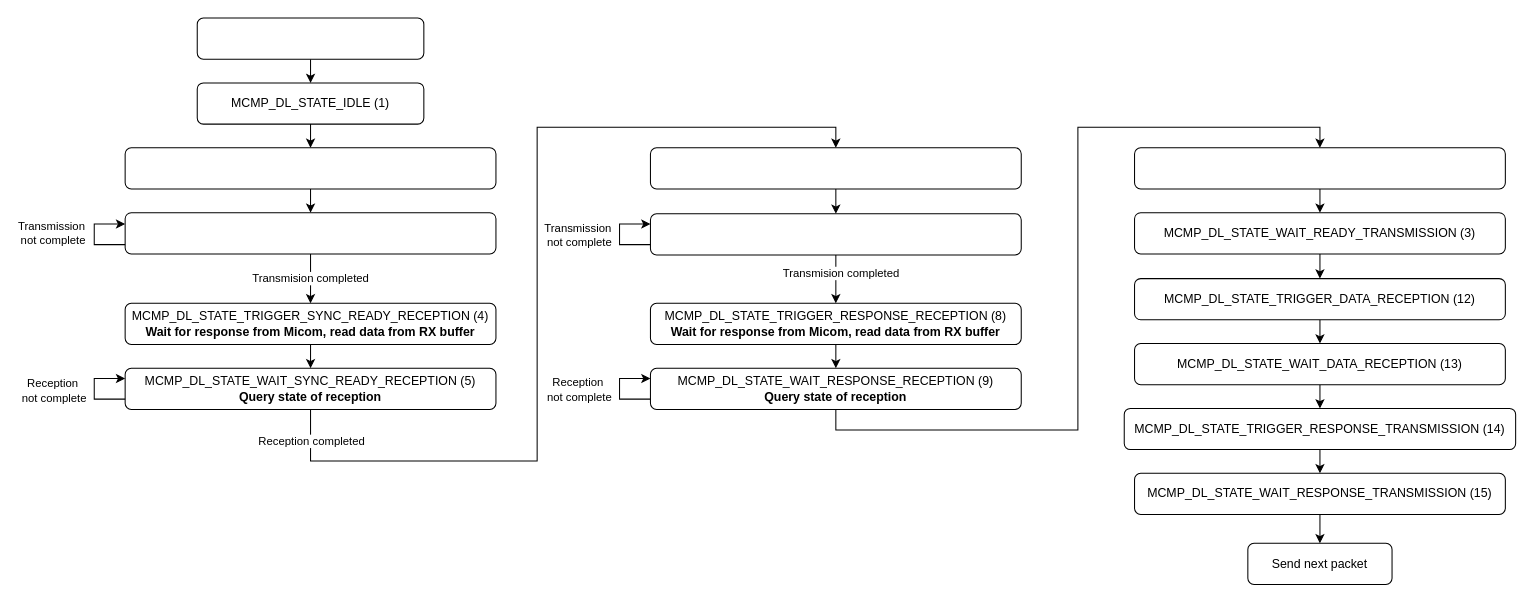
Image size: 1534x603. Some labels were removed from this diagram. The shapes that lost their labels are listed below. From the top down, each one's centre as x and y in pixels, then its label:
At point (310, 38): "MCMP_DL_STATE_INITIAL (0)".
At point (310, 168): "MCMP_DL_STATE_TRIGGER_READY_TRANSMISSION (2) Send BF FF to Micom".
At point (835, 168): "MCMP_DL_STATE_TRIGGER_DATA_TRANSMISSION (6) Send data to Micom".
At point (1319, 168): "MCMP_DL_STATE_TRIGGER_READY_TRANSMISSION (2)".
At point (310, 233): "MCMP_DL_STATE_WAIT_READY_TRANSMISSION (3) Query state of transmission".
At point (835, 234): "MCMP_DL_STATE_WAIT_DATA_TRANSMISSION (7) Query state of transmission".
